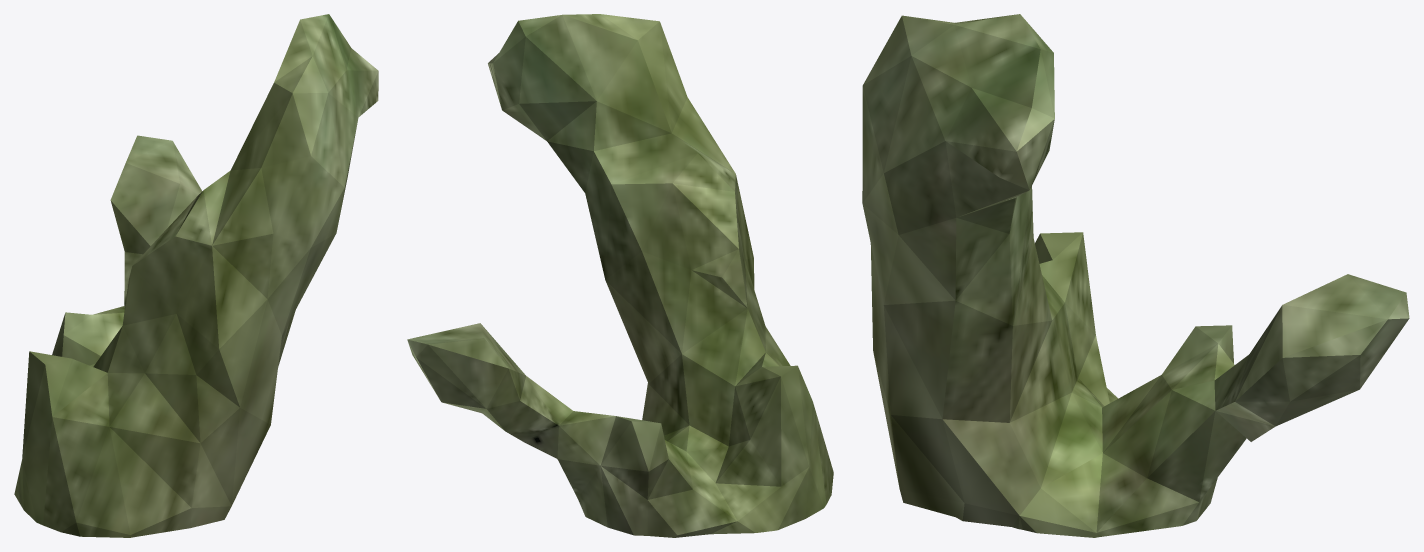
3 renders of one model, left to right at view 1: azimuth 30°, elevation 25°; view 2: azimuth 150°, elevation 25°; view 3: azimuth 270°, elevation 25°, orthographic. The views are drawn at different scales.
Bounding box in the file's own units: 0.7985 × 0.9769 × 0.8574.
1 material, 1 textured.
